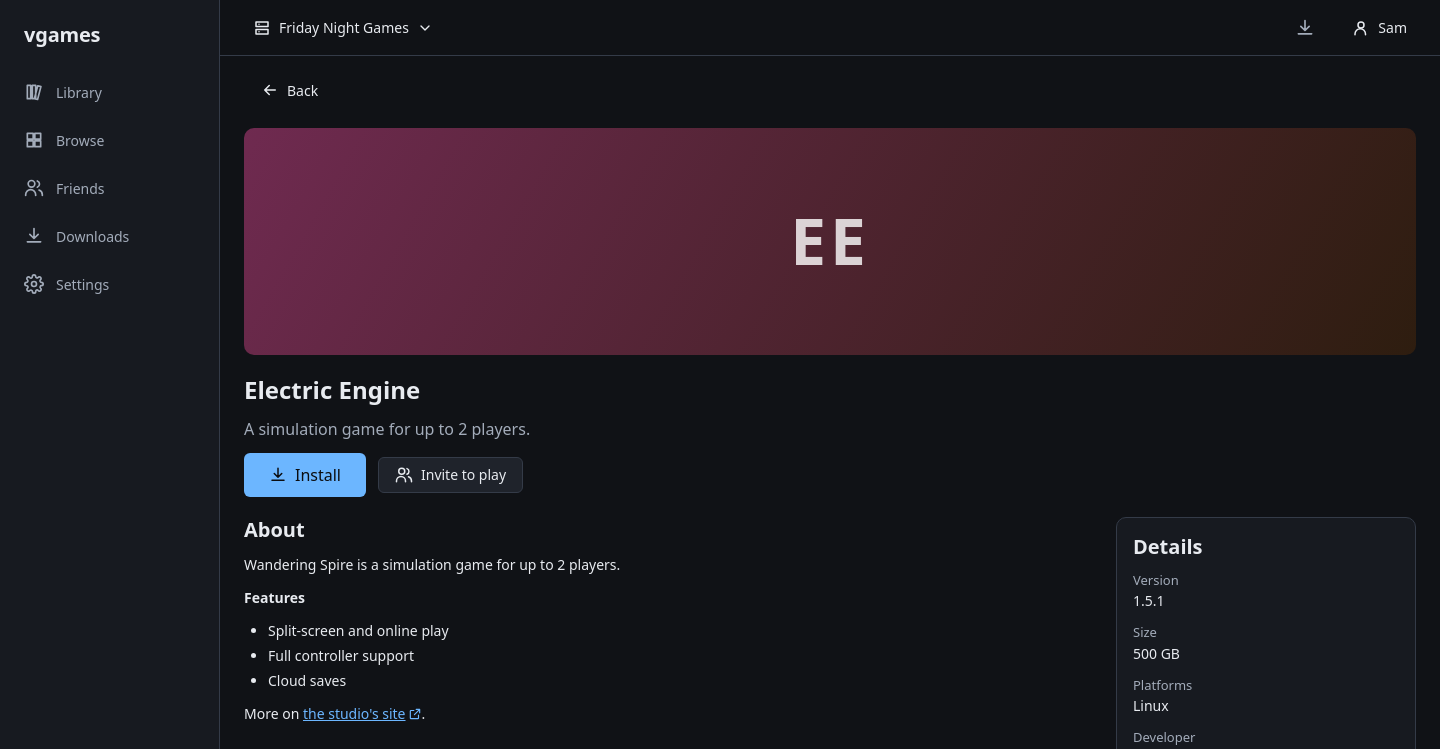
package details › install › insufficient space › links to Storage settings when no library has room
Click the button "Install". click: click(305, 475)
box: [244, 453, 366, 497]
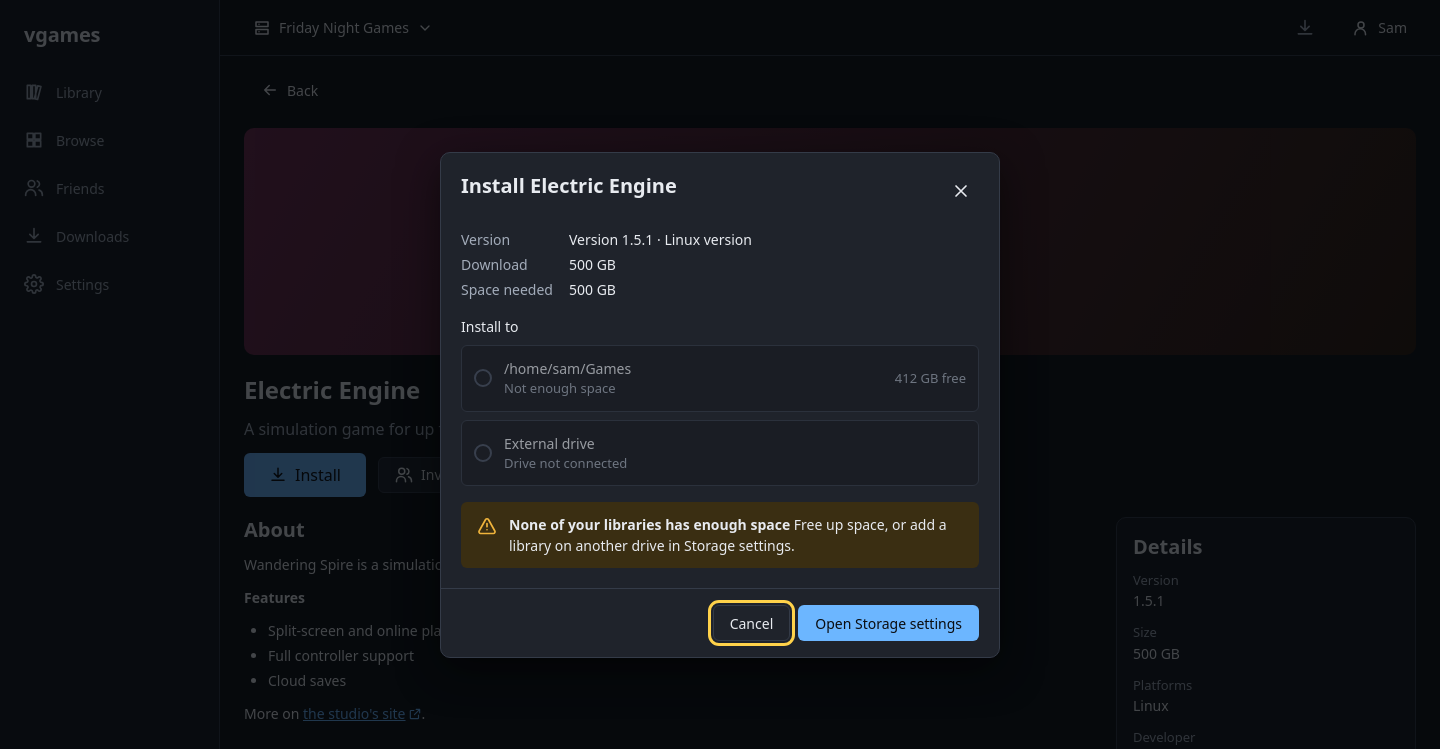
Click the button "Open Storage settings". click: click(889, 623)
box: [798, 605, 979, 641]
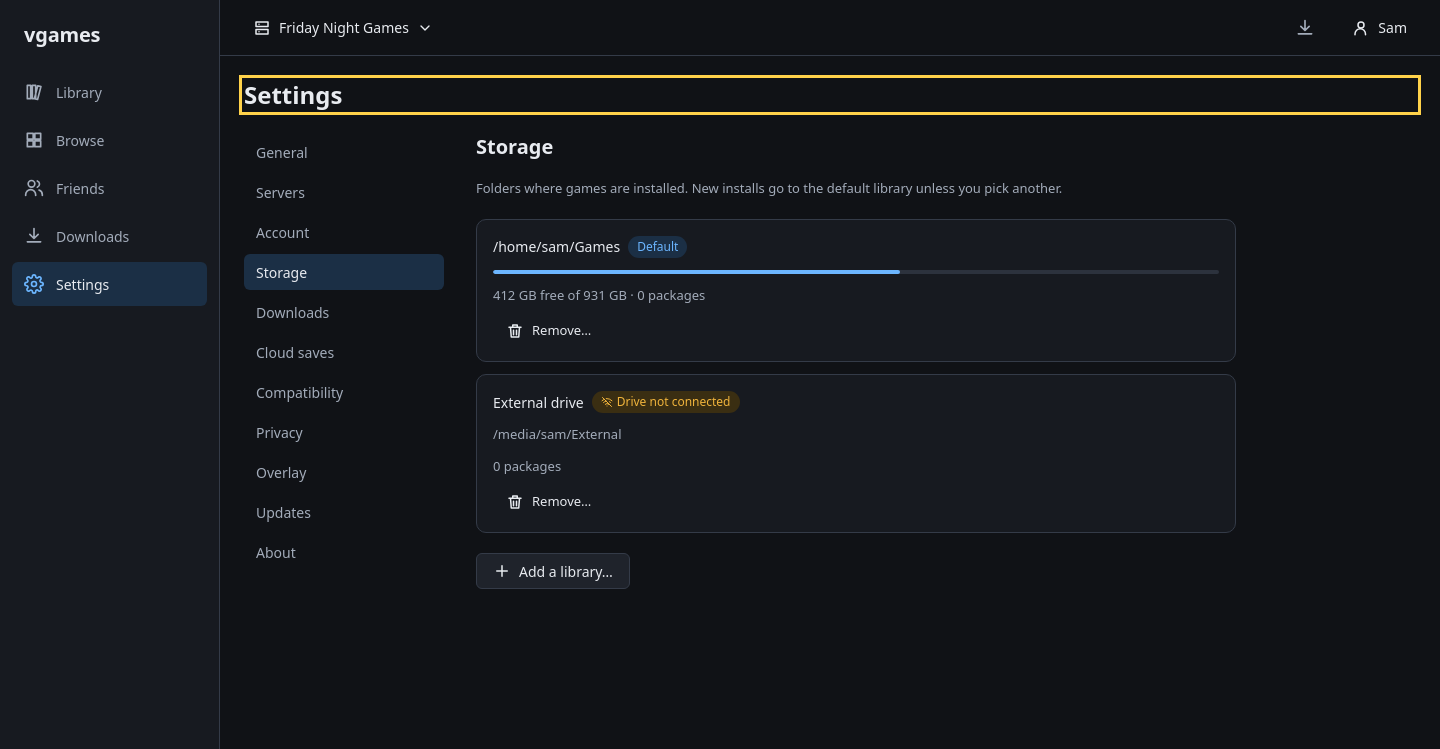
Now the dialog is gone
